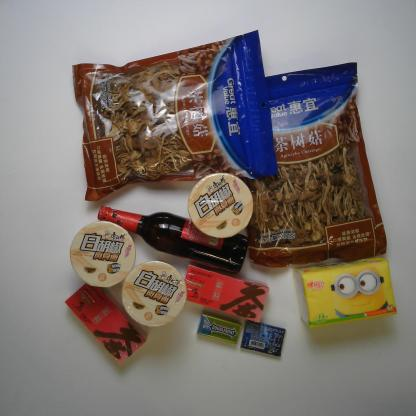Alcohol: (93, 199, 253, 276)
Dried Food: (69, 27, 282, 203), (235, 59, 393, 269)
Gum: (239, 319, 286, 357), (196, 311, 242, 345)
Instant Drink: (62, 282, 149, 366), (178, 261, 274, 326)
Instant Noodles: (186, 170, 254, 241), (120, 259, 188, 328), (69, 220, 136, 288)
Tissue: (293, 258, 402, 332)
